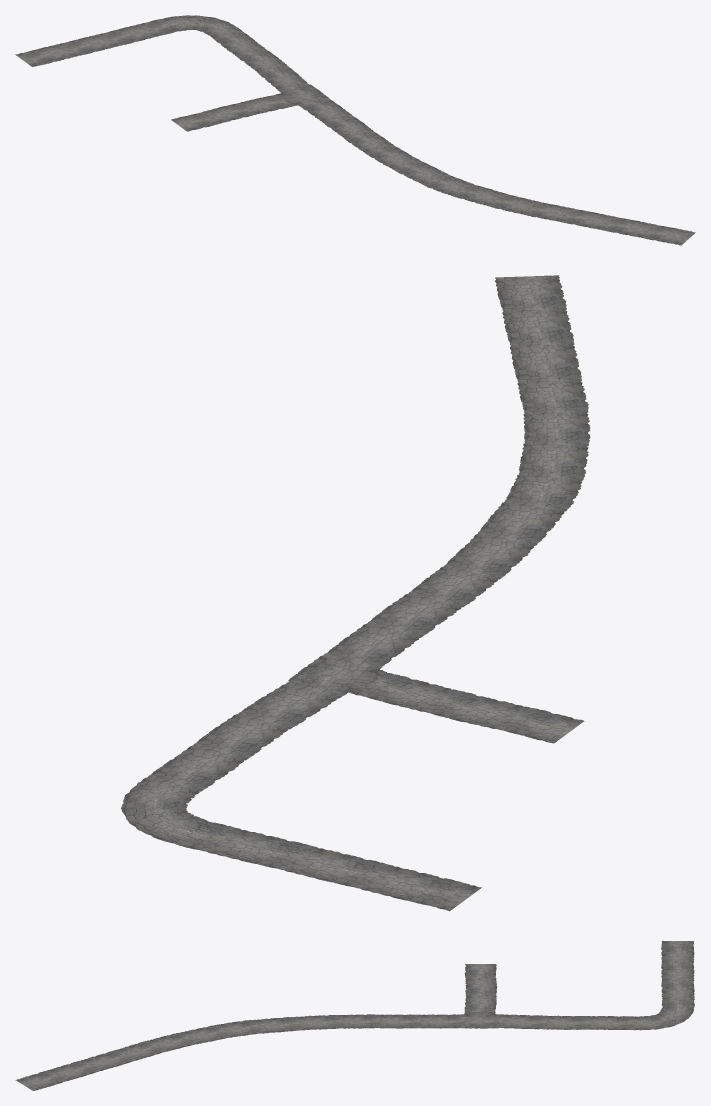
Rendered from Road_asfalt.FBX.
The picture shows the model from 3 angles, top to bottom: view 1: azimuth 30°, elevation 25°; view 2: azimuth 150°, elevation 25°; view 3: azimuth 270°, elevation 25°; orthographic projection. The views are drawn at different scales.
Visible parts, largest first — view 1: Road_003, Road, Road_002, Road_t; view 2: Road_003, Road, Road_002, Road_t; view 3: Road_003, Road, Road_002, Road_t.
Part boxes in pixels (x1,y1,x2,y2): Road_003: (300, 99, 695, 245); Road: (15, 15, 308, 91); Road_002: (171, 94, 293, 131); Road_t: (277, 84, 329, 106); Road_003: (327, 275, 590, 666); Road: (121, 681, 481, 911); Road_002: (351, 673, 584, 743); Road_t: (288, 653, 386, 694); Road_003: (15, 1014, 460, 1090); Road: (499, 941, 694, 1030); Road_002: (464, 964, 497, 1013); Road_t: (460, 1012, 498, 1028).
Size of the model in its own units: 57.12 by 0.0355 by 109.
